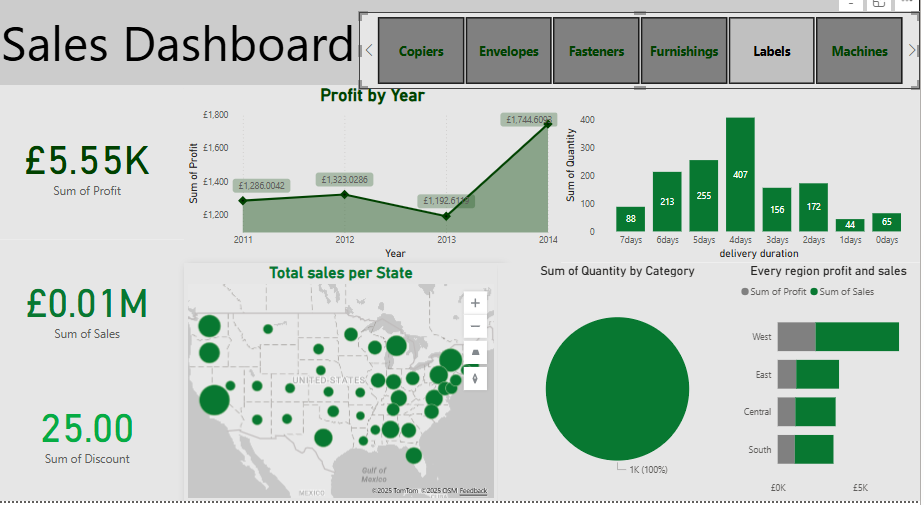

What the dashboard file says about the page in this screenshot:
{"tool":"powerbi","page":{"name":"Page 1","canvas":[1280,720],"ordinal":0},"visuals":[{"type":"shape","title":"    ","box":[0,0,1280,152.9],"z":0},{"type":"card","fields":{"Values":["Sum(Data.Profit)"]},"box":[0,147.3,267,213.3],"z":1000},{"type":"card","fields":{"Values":["Sum(Data.Discount)"]},"box":[0,527.1,267,192.7],"z":2000},{"type":"card","fields":{"Values":["Sum(Data.Sales)"]},"box":[0,360.6,267,181.7],"z":3000},{"type":"areaChart","title":"Profit by Year","fields":{"Category":["Data.Year"],"Y":["Sum(Data.Profit)"]},"box":[267,147.3,518.9,245],"z":4000},{"type":"azureMap","title":"Total sales per State","fields":{"Size":["Sum(Data.Sales)"],"Category":["Data.State"]},"box":[267,392.3,432.2,327.6],"z":5000},{"type":"pieChart","fields":{"Category":["Data.Category"],"Y":["Sum(Data.Quantity)"]},"box":[699.2,392.3,328.9,327.6],"z":6000},{"type":"slicer","fields":{"Values":["Data.Sub-Category"]},"box":[507.9,46.8,772.1,106],"z":7000},{"type":"clusteredColumnChart","fields":{"Category":["Data.delivery duration"],"Y":["Sum(Data.Quantity)"]},"box":[786,153,494,239],"z":8000},{"type":"barChart","title":"Every region profit and sales ","fields":{"Category":["Data.Region"],"Y":["Sum(Data.Profit)","Sum(Data.Sales)"]},"box":[1028,392,252,328],"z":9000}]}

Visuals, with their boxes in screenshot pixels (x1, y1, x2, y2), scaled from the page's 1280x720 canvas onto the 924x505 screenshot:
"    " shape: bbox=[0, 0, 923, 107]
card - Sum(Data.Profit): bbox=[0, 103, 193, 253]
card - Sum(Data.Discount): bbox=[0, 370, 193, 504]
card - Sum(Data.Sales): bbox=[0, 253, 193, 380]
"Profit by Year" areaChart: bbox=[193, 103, 567, 275]
"Total sales per State" azureMap: bbox=[193, 275, 505, 504]
pieChart - Data.Category x Sum(Data.Quantity): bbox=[505, 275, 742, 504]
slicer - Data.Sub-Category: bbox=[367, 33, 923, 107]
clusteredColumnChart - Data.delivery duration x Sum(Data.Quantity): bbox=[567, 107, 923, 275]
"Every region profit and sales " barChart: bbox=[742, 275, 923, 504]
